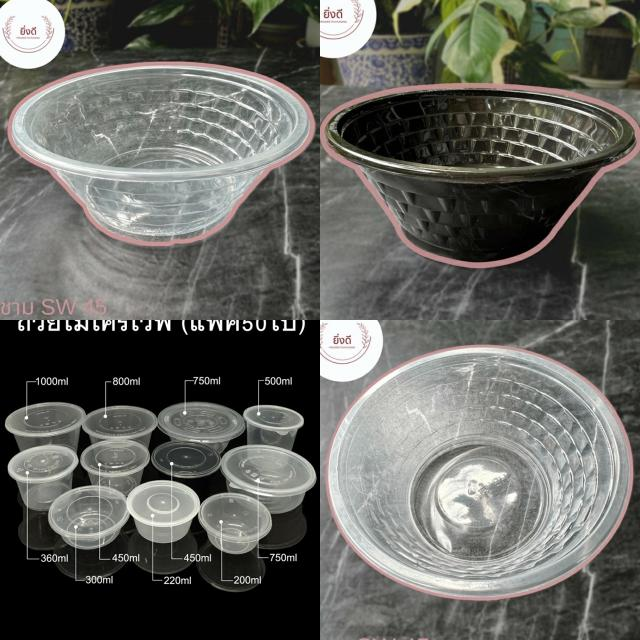Single-Use-Plastic: (328, 345, 632, 600), (322, 85, 640, 266), (9, 62, 314, 245), (221, 445, 316, 514), (49, 485, 130, 549), (8, 445, 79, 511), (126, 480, 200, 543), (198, 492, 271, 553), (158, 401, 245, 451), (151, 441, 221, 500), (5, 402, 85, 451), (80, 440, 150, 495), (82, 405, 158, 446), (244, 405, 304, 450)
